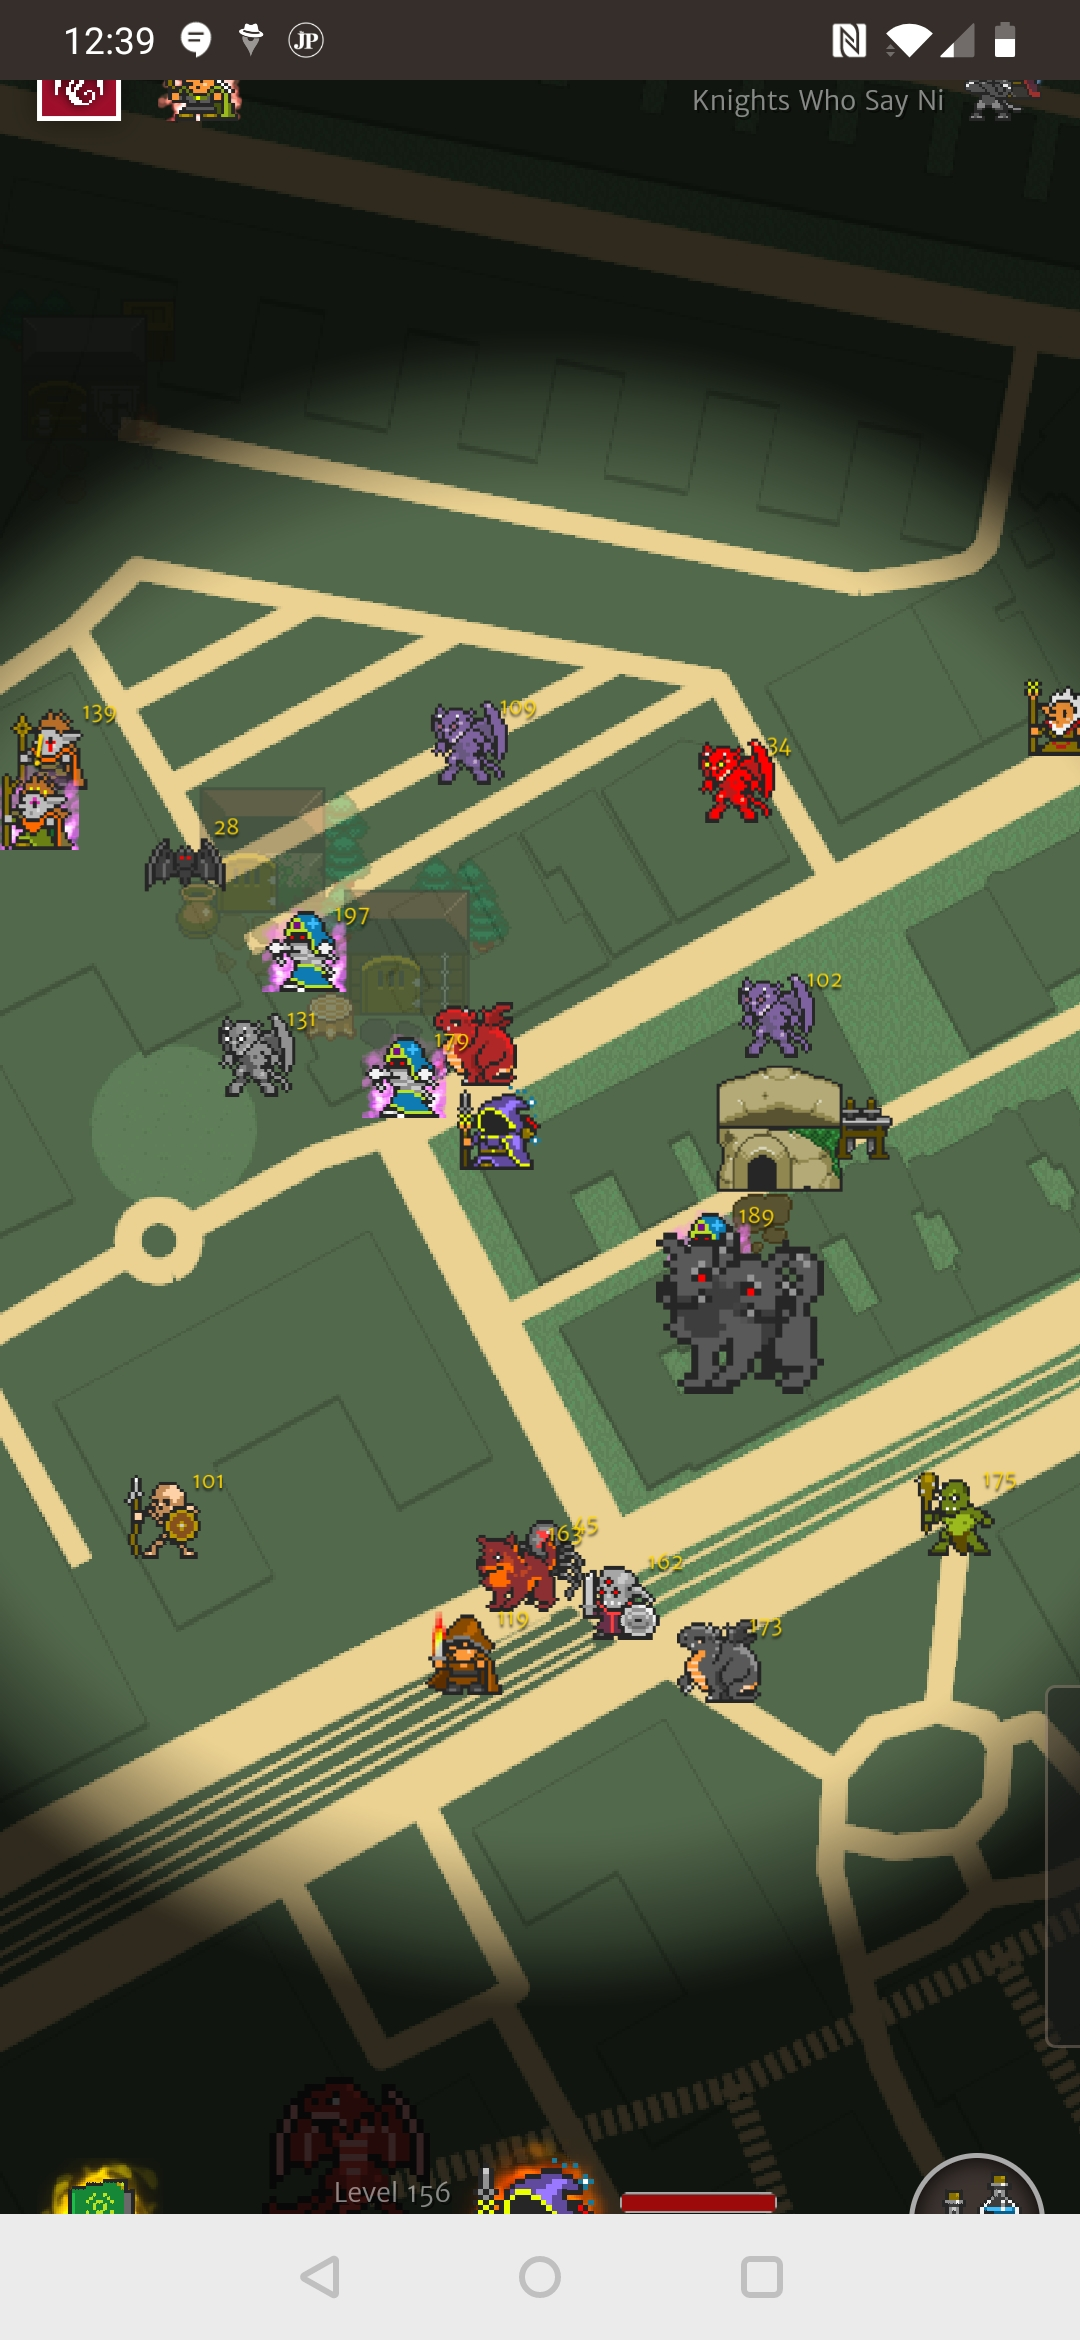monster: (669, 1605, 792, 1715), (422, 693, 541, 793), (210, 1009, 327, 1107), (131, 820, 244, 914), (729, 968, 841, 1062), (580, 1550, 684, 1650), (696, 734, 792, 836), (418, 1611, 529, 1697), (916, 1470, 1014, 1562), (121, 1468, 221, 1558), (26, 707, 113, 794)
player: (451, 1087, 544, 1177)
